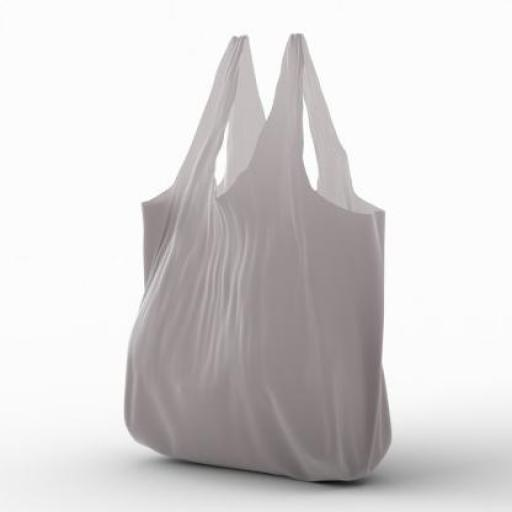plastic bag: (122, 37, 400, 488)
